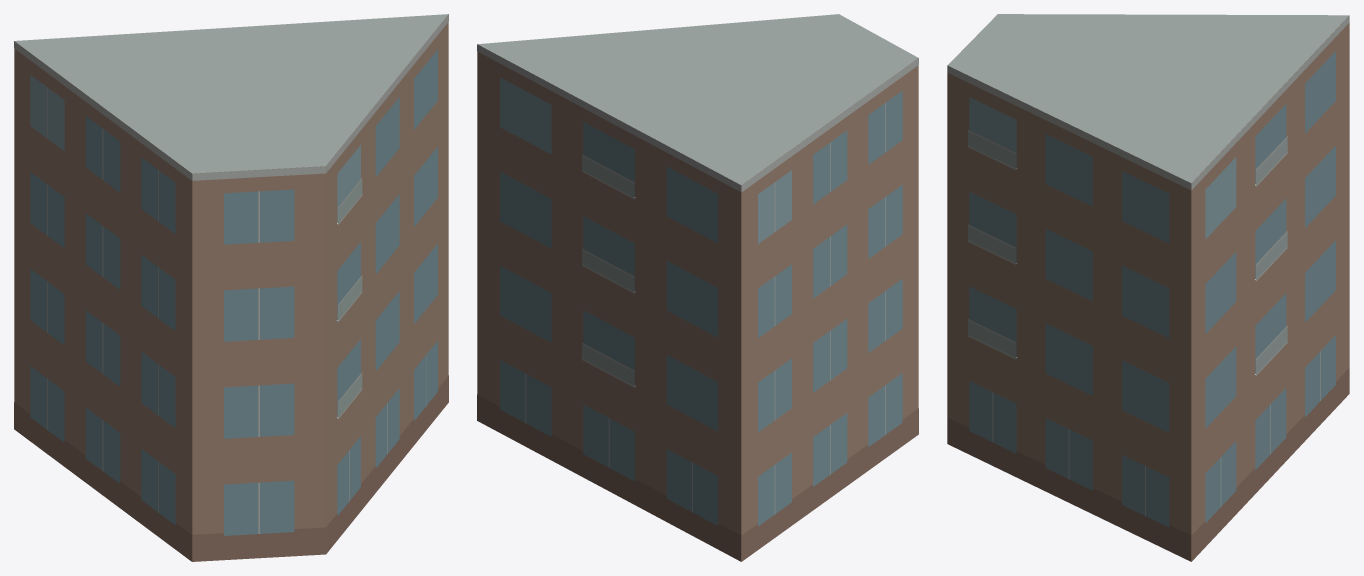
File: survey-upis-32949200.glb
3 renders of one model, left to right at view 1: azimuth 30°, elevation 25°; view 2: azimuth 150°, elevation 25°; view 3: azimuth 270°, elevation 25°, orthographic. The views are drawn at different scales.
Visible parts, largest first — view 1: survey-upis-32949200.tmp; view 2: survey-upis-32949200.tmp; view 3: survey-upis-32949200.tmp.
Boxes of the visible parts, x1,y1,x2,y2 form: survey-upis-32949200.tmp: [14, 14, 448, 561]; survey-upis-32949200.tmp: [477, 14, 918, 561]; survey-upis-32949200.tmp: [947, 14, 1349, 561].
Bounding box in the file's own units: 12.38 × 12.9 × 12.43.
